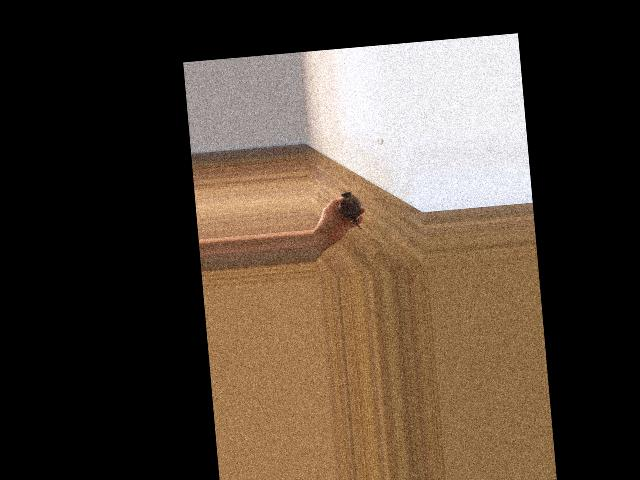beet: (337, 190, 363, 230)
